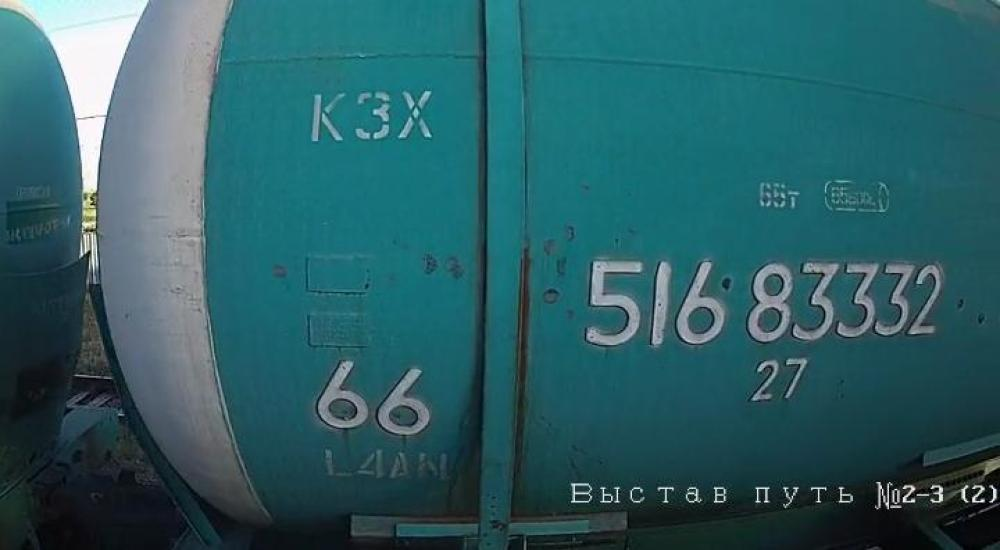Wagon-number: (580, 248, 951, 351)
